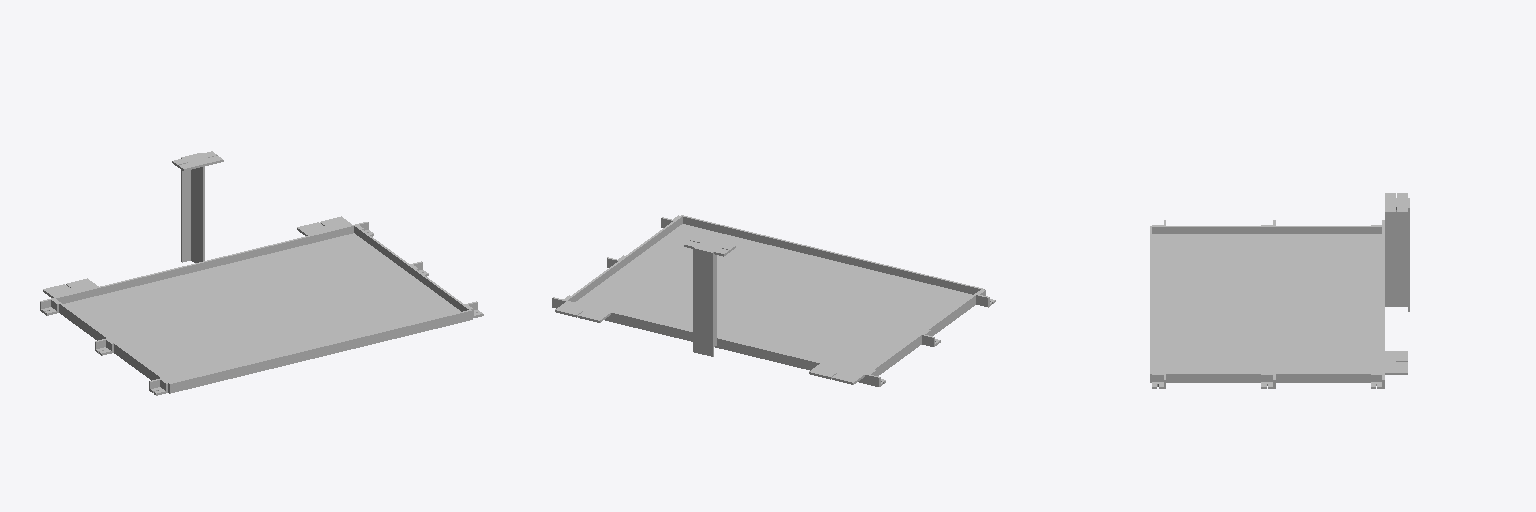
The model's file is Table.obj.
3 views of the same model, side by side, from view 1: azimuth 30°, elevation 25°; view 2: azimuth 150°, elevation 25°; view 3: azimuth 270°, elevation 25° (orthographic).
Parts seen in each view (by area): view 1: Solide1:4, Solide1:1, Solide1, Solide1:24, Solide1:2, Solide1:3, Solide1:25, Solide1:23, Solide1:26; view 2: Solide1:4, Solide1:1, Solide1:25, Solide1, Solide1:2, Solide1:3, Solide1:26, Solide1:27; view 3: Solide1:4, Solide1:24, Solide1:3, Solide1:2, Solide1:27.
Boxes of the visible parts, <box> form: Solide1:4: <box>64,233,460,382</box>; Solide1:1: <box>171,310,469,392</box>; Solide1: <box>56,226,353,303</box>; Solide1:24: <box>191,167,204,262</box>; Solide1:2: <box>52,298,171,393</box>; Solide1:3: <box>354,225,472,319</box>; Solide1:25: <box>181,153,201,262</box>; Solide1:23: <box>172,151,223,170</box>; Solide1:26: <box>43,278,98,297</box>; Solide1:4: <box>575,224,972,372</box>; Solide1:1: <box>683,216,981,294</box>; Solide1:25: <box>693,247,713,356</box>; Solide1: <box>605,312,864,383</box>; Solide1:2: <box>865,288,984,383</box>; Solide1:3: <box>564,215,683,302</box>; Solide1:26: <box>809,364,864,384</box>; Solide1:27: <box>555,302,610,322</box>; Solide1:4: <box>1152,234,1381,372</box>; Solide1:24: <box>1385,210,1407,306</box>; Solide1:3: <box>1150,373,1384,382</box>; Solide1:2: <box>1150,226,1384,233</box>; Solide1:27: <box>1385,351,1407,374</box>.
Size of the model in its own units: 3288 by 1022 by 2266.